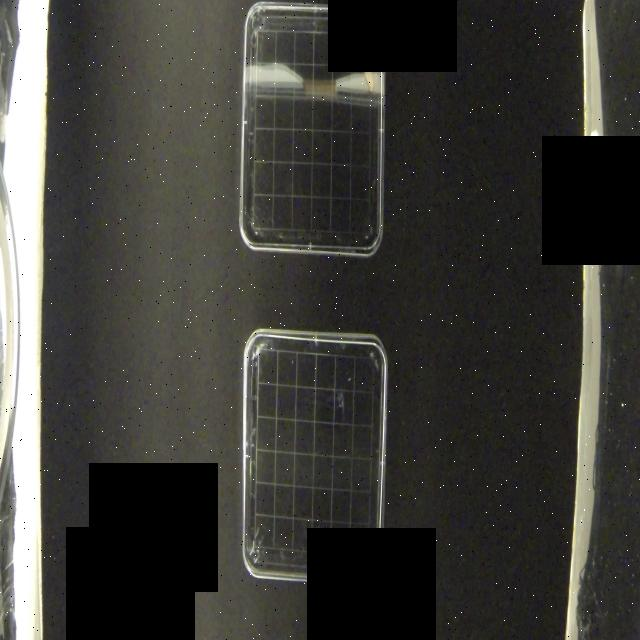larva: (360, 34, 376, 95), (318, 550, 352, 578)
